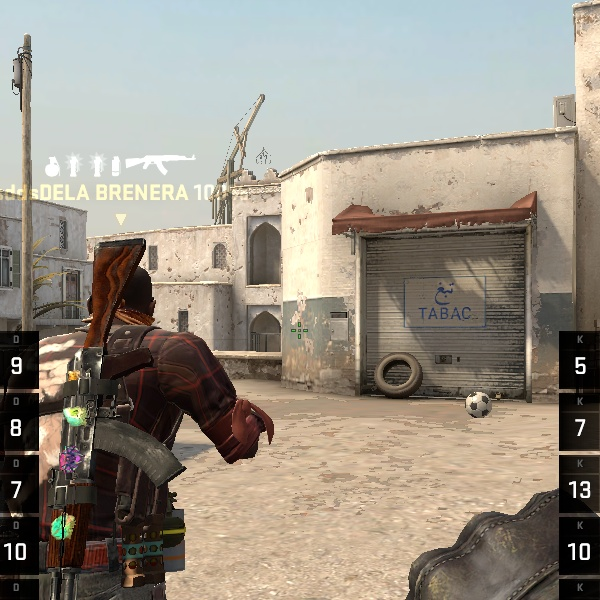t_body: (19, 225, 264, 600)
t_head: (84, 231, 180, 358)
